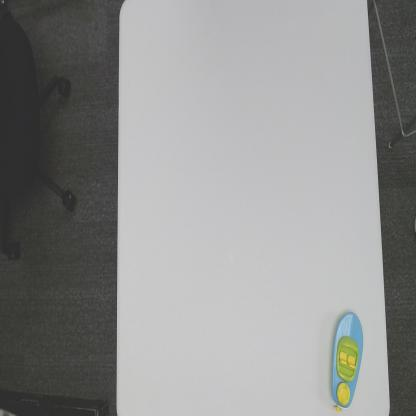Boat: (327, 306, 364, 415)
